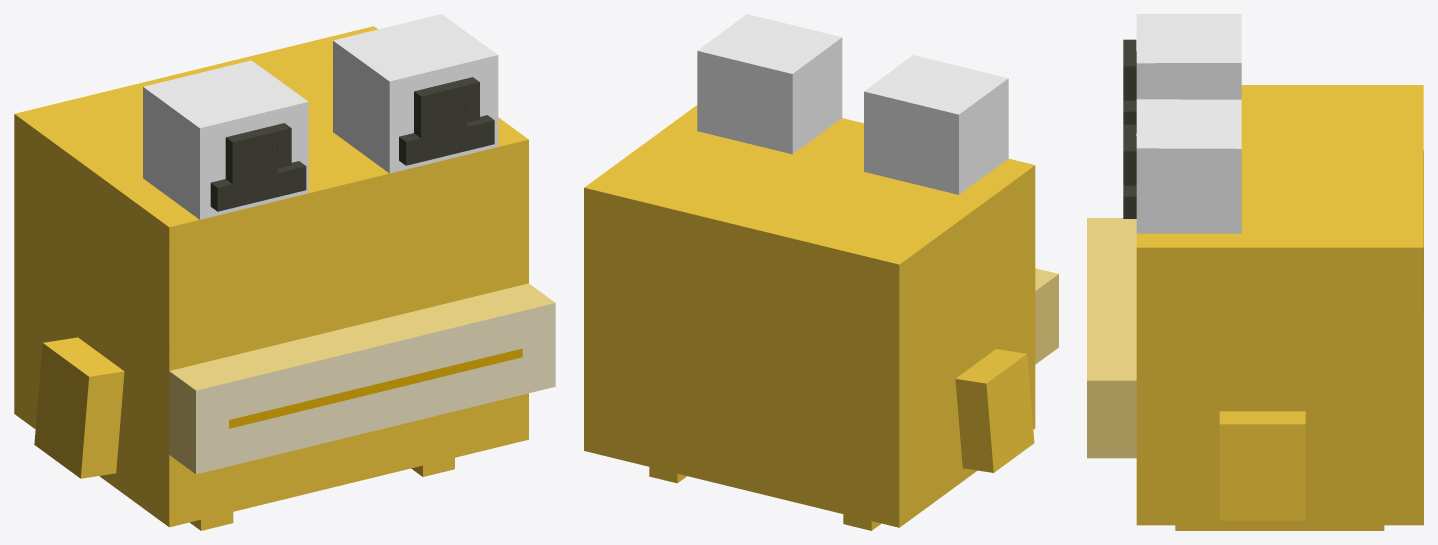
3 renders of one model, left to right at view 1: azimuth 30°, elevation 25°; view 2: azimuth 150°, elevation 25°; view 3: azimuth 270°, elevation 25°, orthographic. The views are drawn at different scales.
Parts seen in each view (by area): view 1: Ch_12, Ch_12_Eye, Ch_12_Hand_L, Ch_12_Eye_03_L, Ch_12_Eye_03_R; view 2: Ch_12, Ch_12_Eye, Ch_12_Hand_L; view 3: Ch_12, Ch_12_Eye, Ch_12_Hand_R, Ch_12_Leg_R, Ch_12_Eye_03_R, Ch_12_Eye_03_L.
Part boxes in pixels (x1,y1,x2,y2): Ch_12: [14, 26, 555, 527]; Ch_12_Eye: [143, 14, 498, 219]; Ch_12_Hand_L: [34, 337, 124, 478]; Ch_12_Eye_03_L: [225, 123, 291, 183]; Ch_12_Eye_03_R: [414, 77, 479, 138]; Ch_12: [584, 105, 1058, 527]; Ch_12_Eye: [697, 14, 1008, 194]; Ch_12_Hand_L: [955, 349, 1034, 472]; Ch_12: [1087, 85, 1423, 525]; Ch_12_Eye: [1123, 14, 1241, 233]; Ch_12_Hand_R: [1219, 411, 1305, 520]; Ch_12_Leg_R: [1175, 525, 1384, 530]; Ch_12_Eye_03_R: [1123, 124, 1136, 185]; Ch_12_Eye_03_L: [1123, 39, 1136, 100].
Size of the model in its own units: 10.09 by 9.15 by 7.11.
